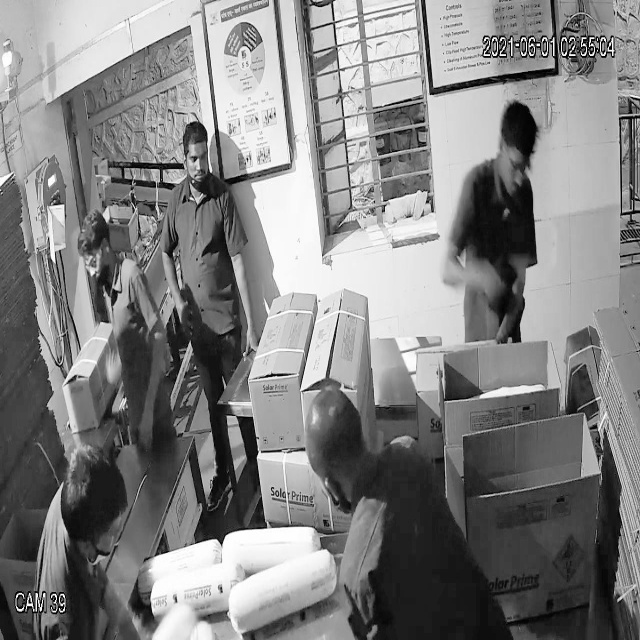Sin_gafas: (178, 146, 214, 173)
